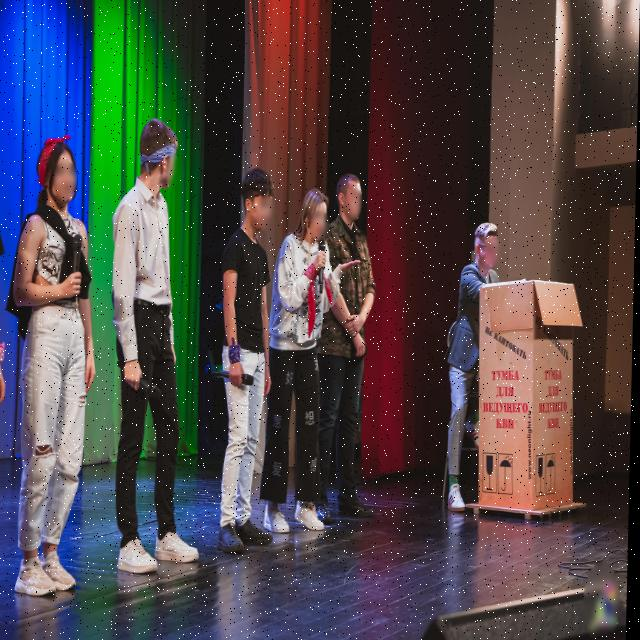Person: (13, 124, 107, 623), (120, 118, 204, 578), (217, 165, 284, 564), (272, 184, 335, 542), (442, 212, 514, 517), (328, 168, 388, 509)
